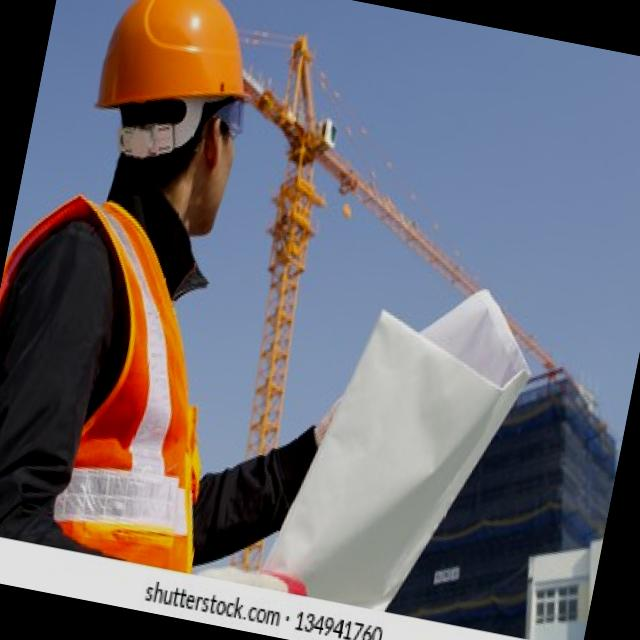helmet: (93, 0, 281, 150)
vest: (0, 180, 259, 581)
